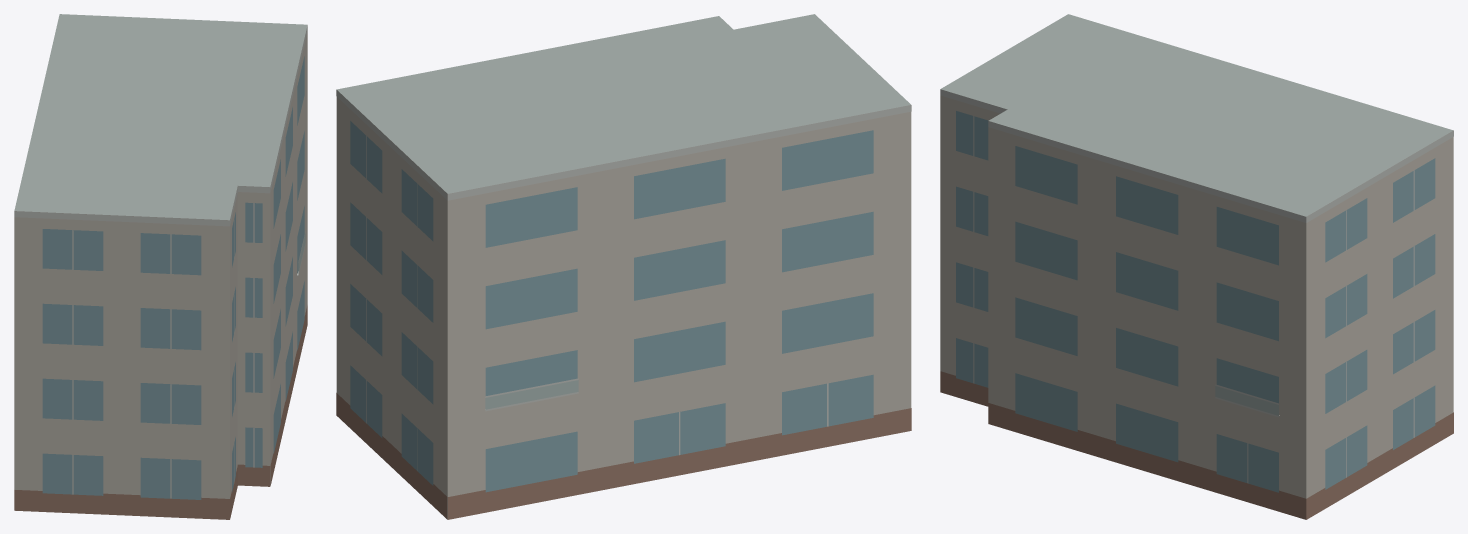
The model's file is survey-upis-32904252.glb.
The picture shows the model from 3 angles, left to right: view 1: azimuth 30°, elevation 25°; view 2: azimuth 150°, elevation 25°; view 3: azimuth 270°, elevation 25°; orthographic projection. The views are drawn at different scales.
Parts seen in each view (by area): view 1: survey-upis-32904252.tmp; view 2: survey-upis-32904252.tmp; view 3: survey-upis-32904252.tmp.
Part boxes in pixels (x1,y1,x2,y2): survey-upis-32904252.tmp: [14, 14, 307, 519]; survey-upis-32904252.tmp: [336, 14, 911, 519]; survey-upis-32904252.tmp: [940, 14, 1453, 519].
Bounding box in the file's own units: 16.87 × 11.75 × 18.05.
